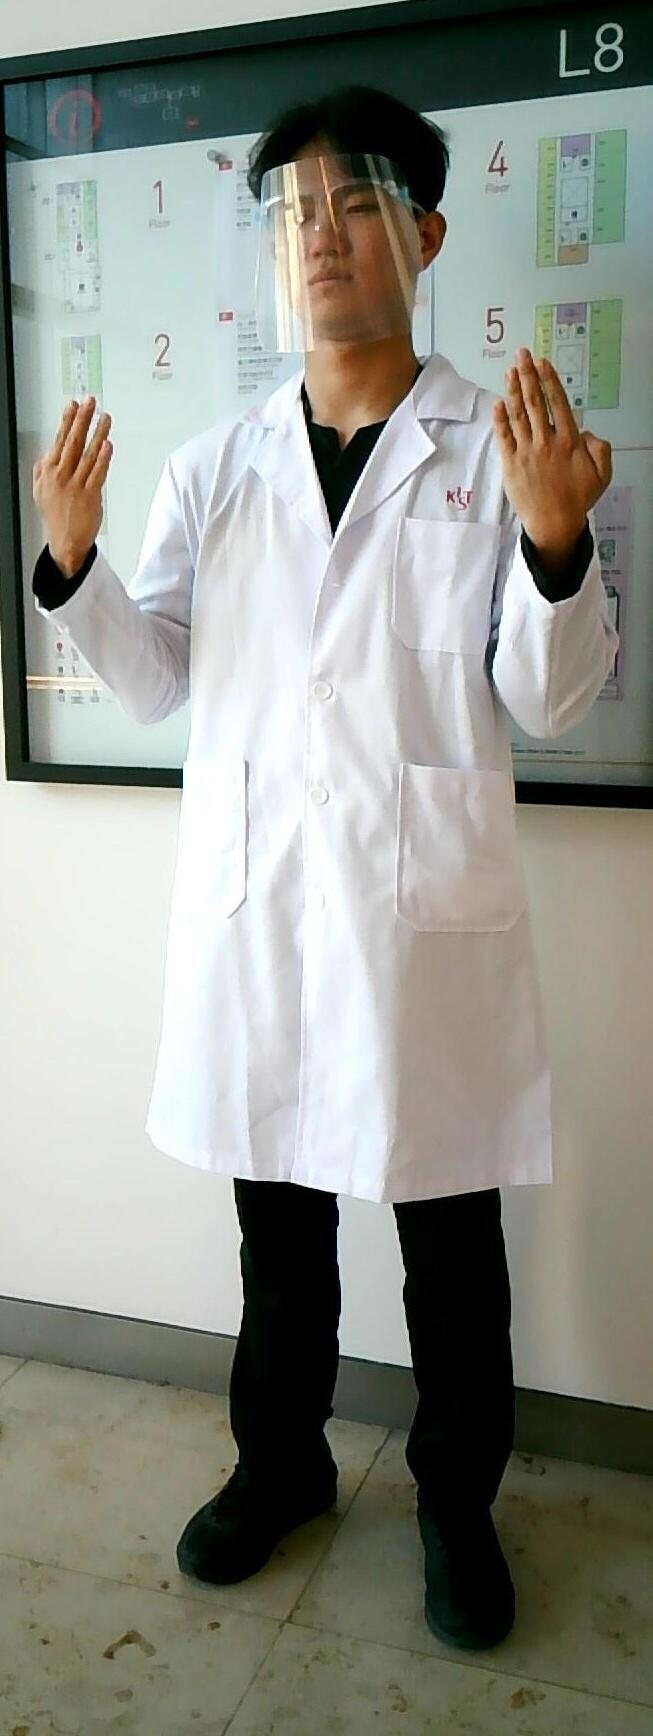lab_coat: (157, 387, 490, 1157)
